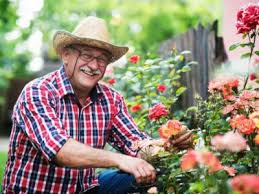person: (4, 16, 157, 194)
